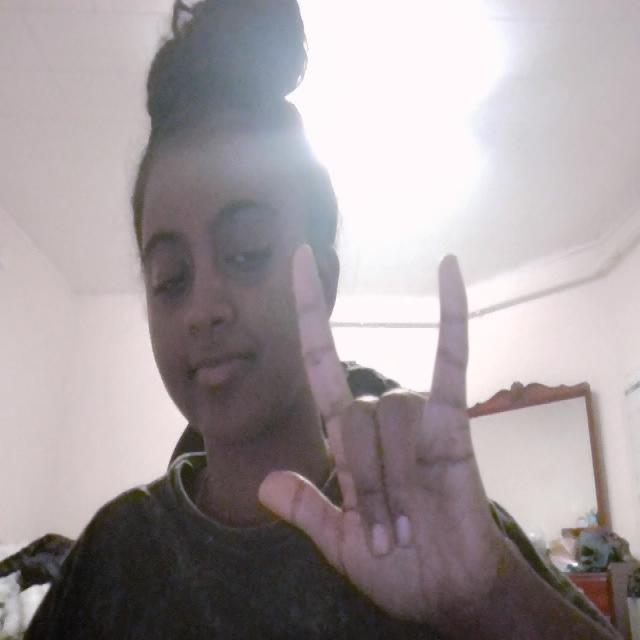iloveyou: (245, 218, 542, 636)
